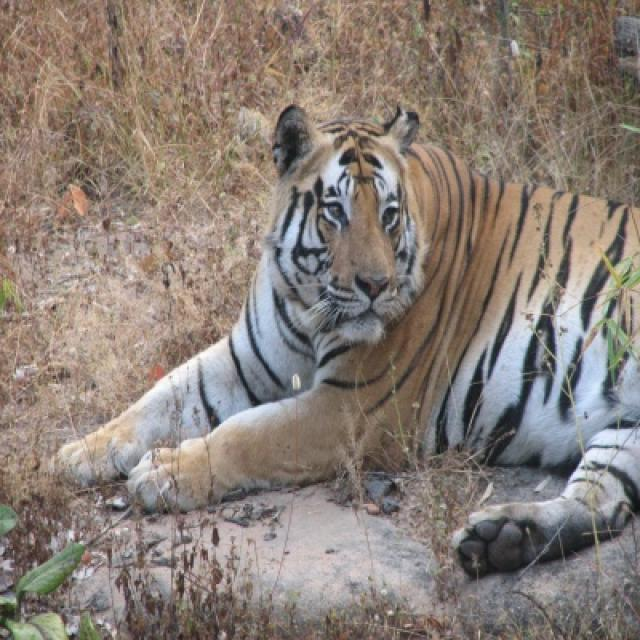Tiger: (54, 97, 638, 578)
